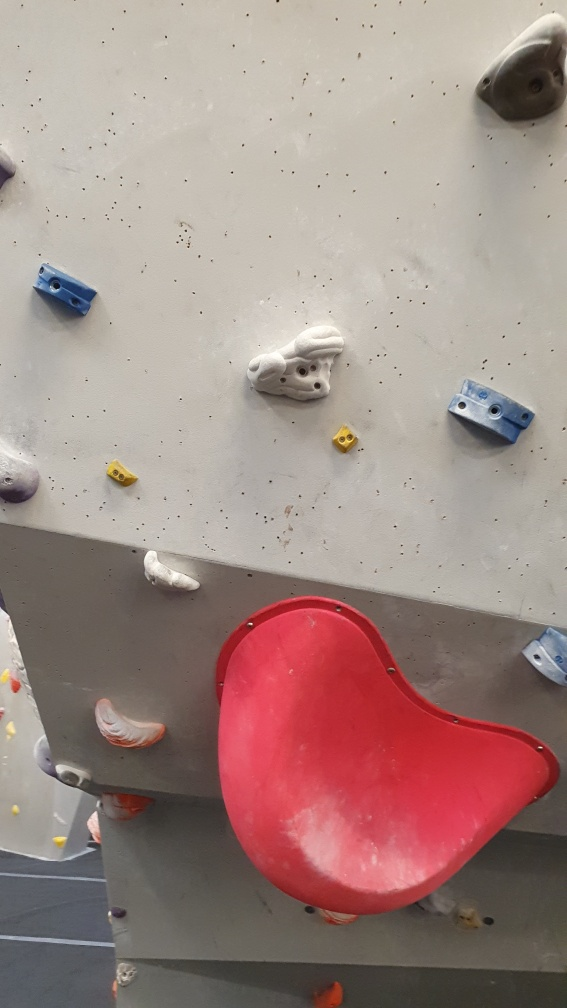Crimp: (104, 454, 142, 493)
Jug: (473, 10, 567, 129), (246, 321, 348, 409), (91, 695, 176, 754), (139, 547, 205, 600)
Pinch: (445, 374, 540, 447), (29, 260, 101, 319), (517, 623, 567, 689), (329, 420, 364, 457)
